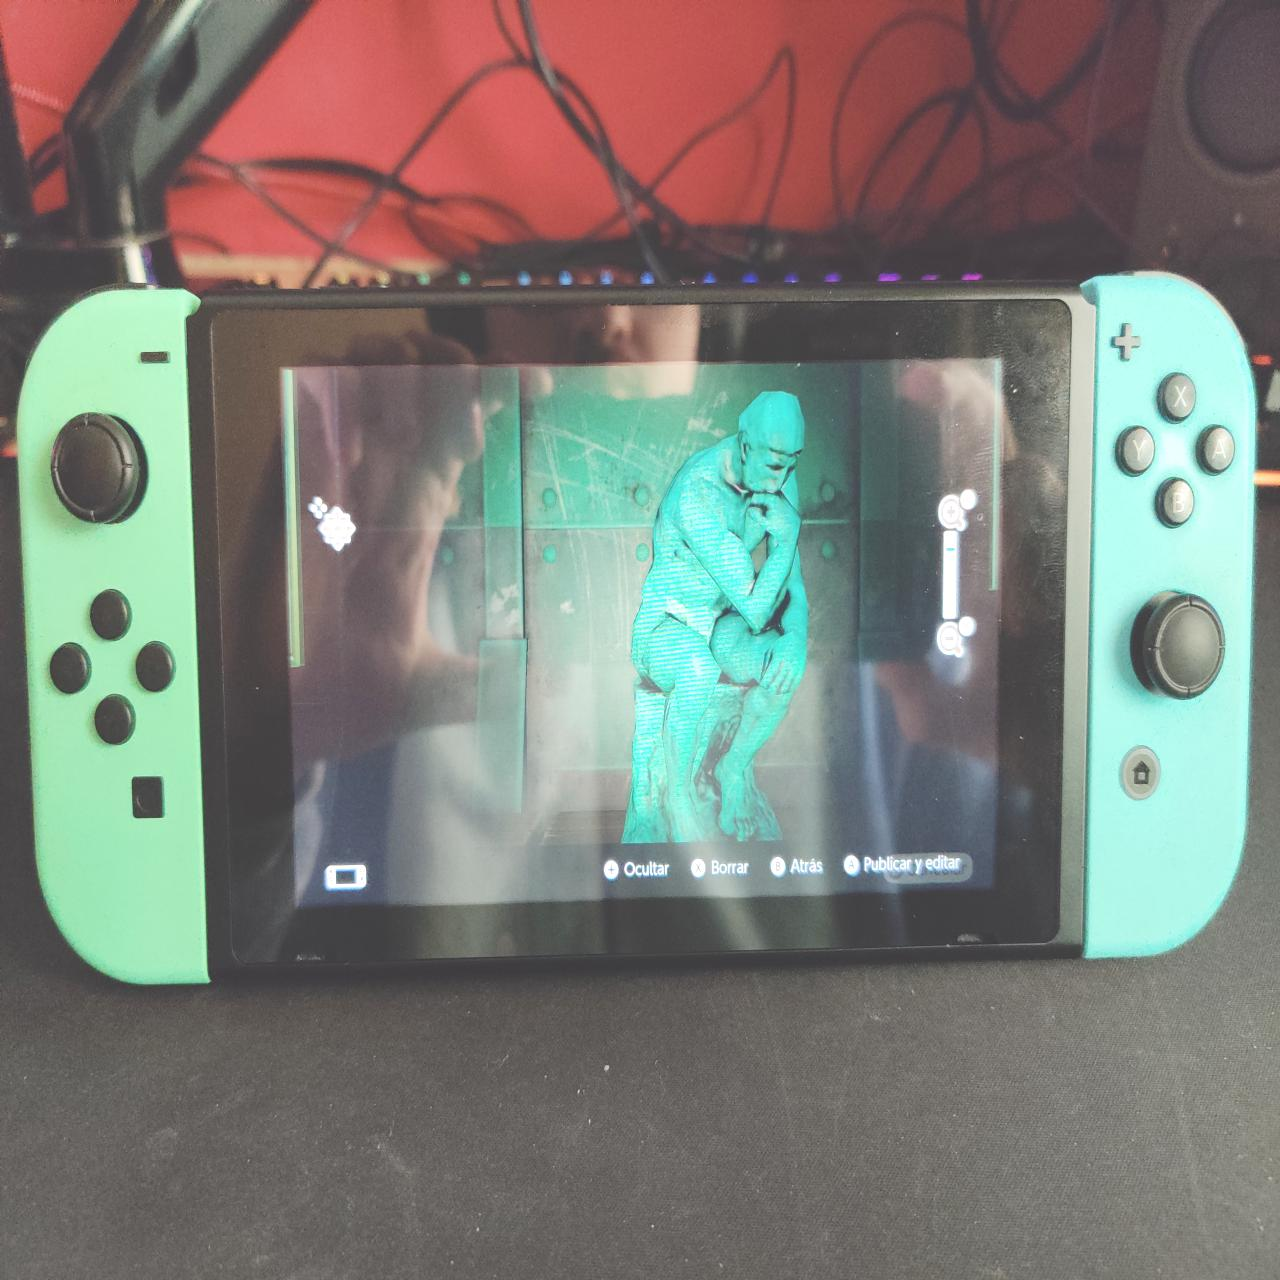Thinker: (621, 392, 819, 844)
